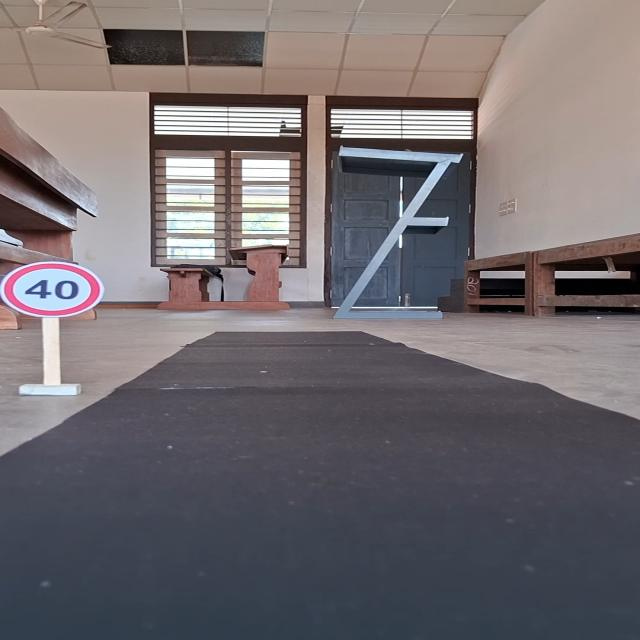Speed40: (0, 259, 109, 320)
